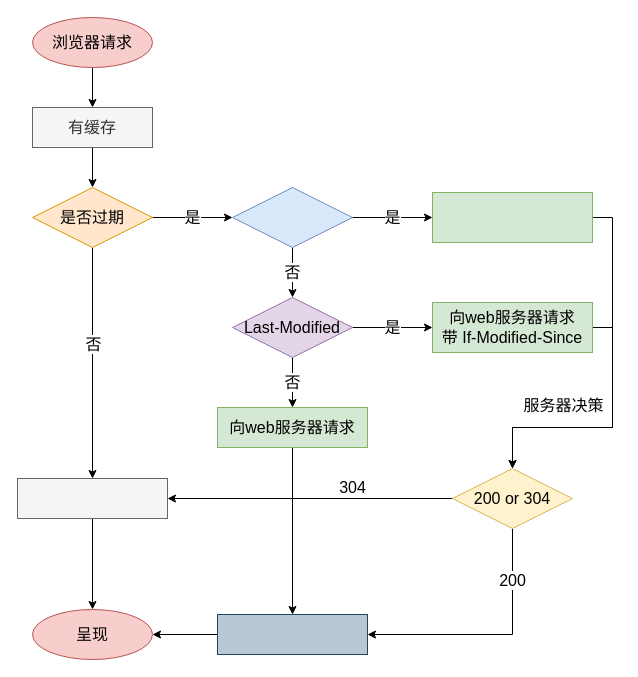
This 638x677 diagram has some shape labels left out. The shapes that lost their labels are listed below. From the top down, each one's centre as x and y in pixels, then its label:
At (292,217): "Etag".
At (512,217): "向web服务器请求 带 If-None-Match".
At (92,498): "从缓存读取".
At (292,634): "请求响应，缓存协商".
